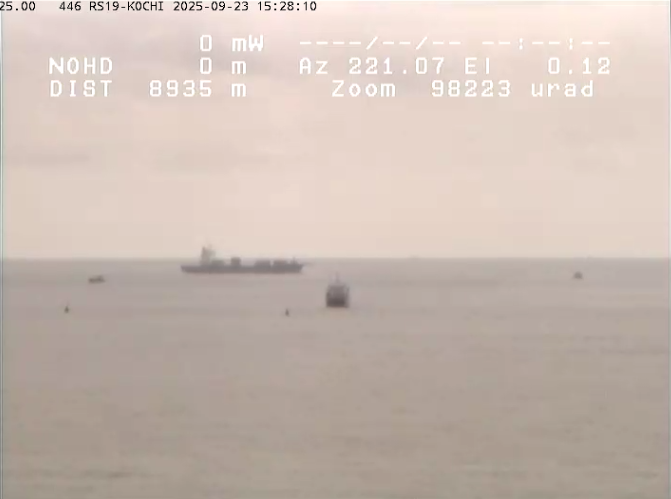CARGO_SHIPS: (171, 235, 311, 279)
FISHING_BOAT: (81, 268, 110, 291)
TUGS: (318, 275, 379, 330)
